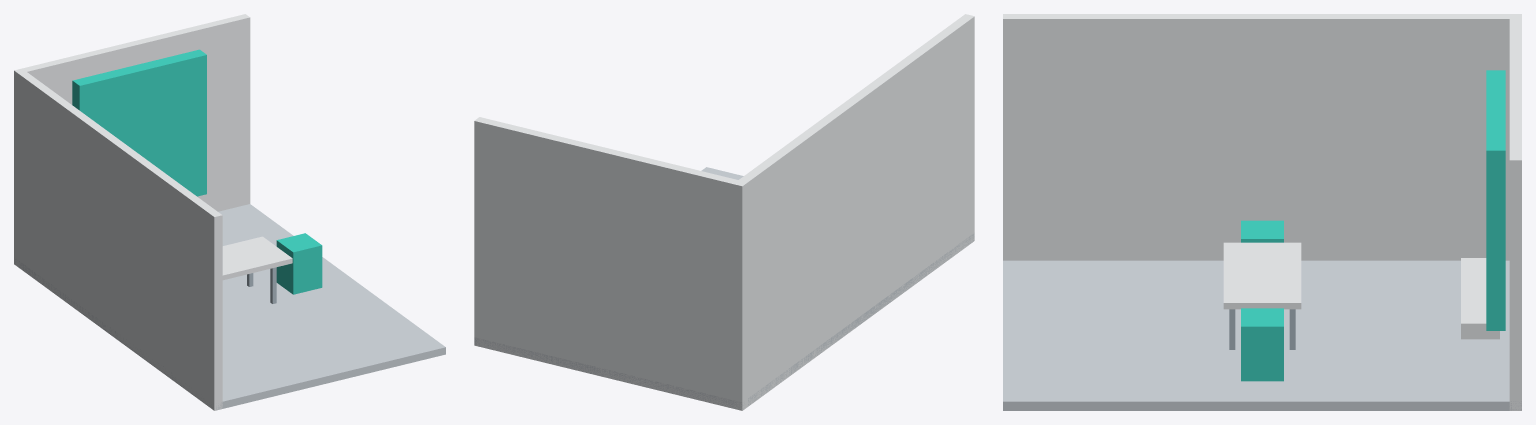
3 views of the same model, side by side, from view 1: azimuth 30°, elevation 25°; view 2: azimuth 150°, elevation 25°; view 3: azimuth 270°, elevation 25° (orthographic). The views are drawn at different scales.
Parts seen in each view (by area): view 1: Exhibition Booth Concept; view 2: Exhibition Booth Concept; view 3: Exhibition Booth Concept.
Boxes of the visible parts, x1,y1,x2,y2 form: Exhibition Booth Concept: [14, 14, 445, 410]; Exhibition Booth Concept: [474, 14, 974, 410]; Exhibition Booth Concept: [1003, 14, 1521, 410].
Bounding box in the file's own units: 4 × 3.2 × 6.
